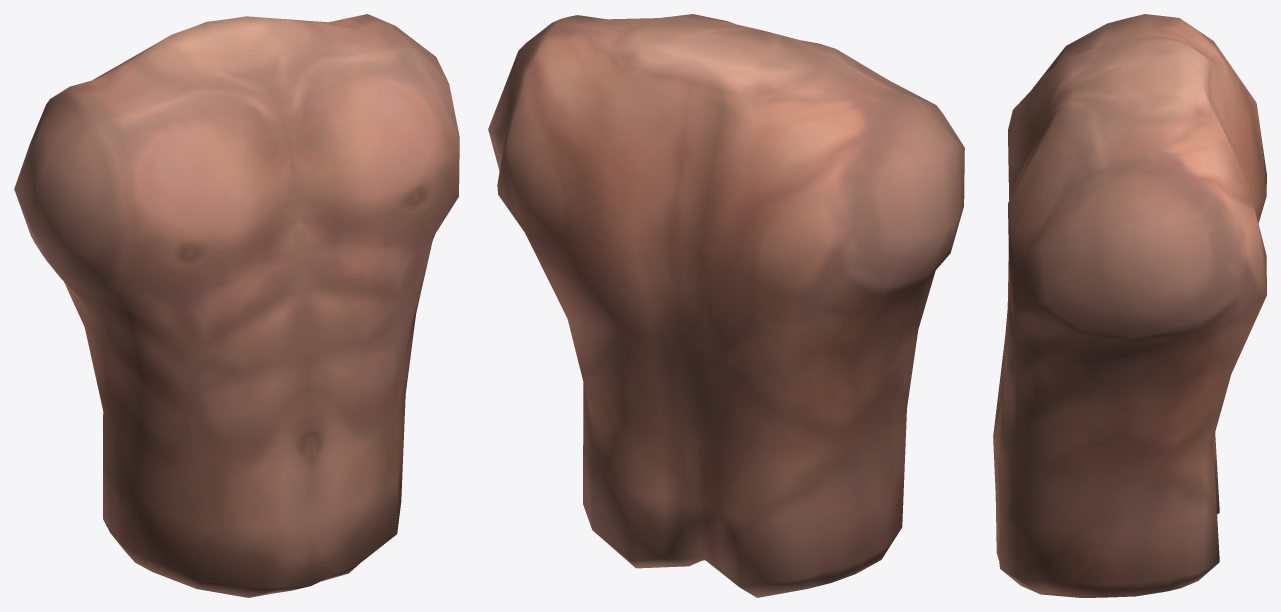
The model's file is Torso.fbx.
3 renders of one model, left to right at view 1: azimuth 30°, elevation 25°; view 2: azimuth 150°, elevation 25°; view 3: azimuth 270°, elevation 25°, orthographic. The views are drawn at different scales.
Parts seen in each view (by area): view 1: polySurface1; view 2: polySurface1; view 3: polySurface1.
Boxes of the visible parts, x1,y1,x2,y2 form: polySurface1: [14, 14, 459, 597]; polySurface1: [488, 14, 964, 597]; polySurface1: [993, 14, 1266, 597].
Bounding box in the file's own units: 46.64 × 54.35 × 26.92.
Materials: 1 (1 with a texture image).
